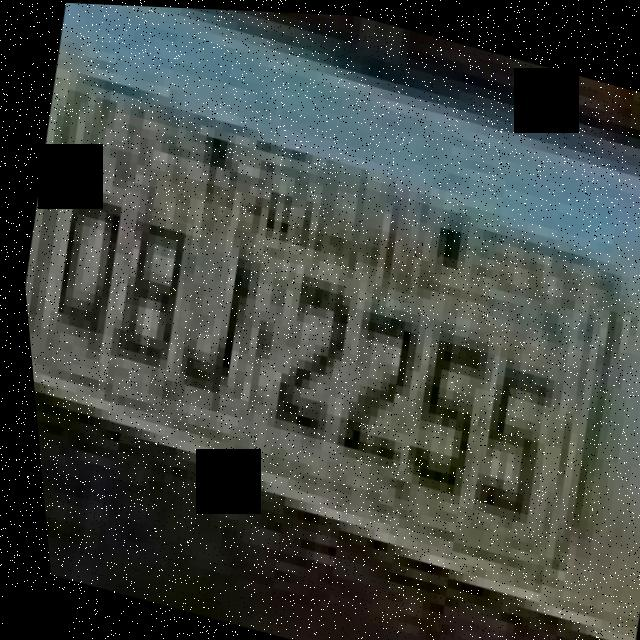5: (450, 327, 570, 538), (382, 311, 500, 504)
B: (101, 207, 198, 372)
J: (161, 216, 266, 398)
Q: (34, 183, 136, 364)
